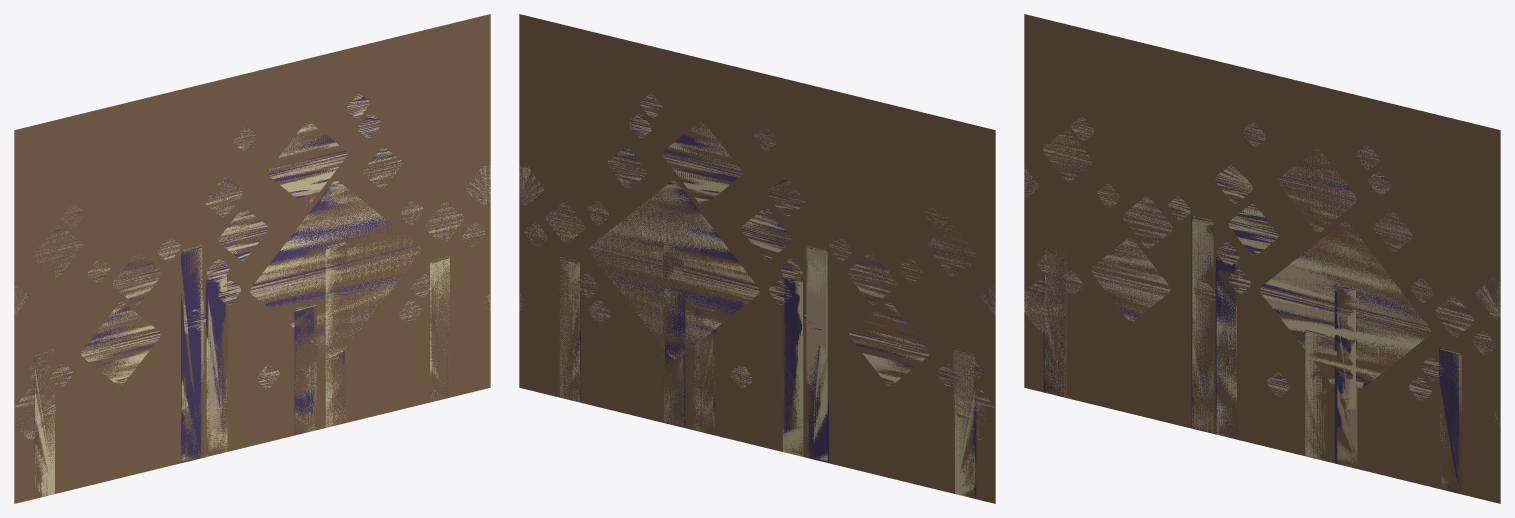
File: SC_Abstract.fbx
3 renders of one model, left to right at view 1: azimuth 30°, elevation 25°; view 2: azimuth 150°, elevation 25°; view 3: azimuth 330°, elevation 25°, orthographic.
Parts seen in each view (by area): view 1: SM_Background_Brown, SM_Blocks_Brown, SM_Blocks_Vanilla, SM_Blocks_Purple, SM_Spires_Purple, SM_Spires_Brown, SM_Blocks_Tan, SM_Spires_Vanilla, SM_Spires_Tan; view 2: SM_Background_Brown, SM_Blocks_Brown, SM_Blocks_Vanilla, SM_Blocks_Purple, SM_Spires_Vanilla, SM_Blocks_Tan, SM_Spires_Brown, SM_Spires_Purple, SM_Spires_Tan; view 3: SM_Background_Brown, SM_Blocks_Brown, SM_Blocks_Vanilla, SM_Spires_Brown, SM_Blocks_Tan, SM_Blocks_Purple, SM_Spires_Purple, SM_Spires_Vanilla, SM_Spires_Tan.
Part boxes in pixels (left/top/right/bottom): SM_Background_Brown: left=14, top=14, right=490, bottom=503; SM_Blocks_Brown: left=15, top=94, right=490, bottom=438; SM_Blocks_Vanilla: left=15, top=94, right=490, bottom=439; SM_Blocks_Purple: left=14, top=94, right=490, bottom=437; SM_Spires_Purple: left=33, top=243, right=448, bottom=494; SM_Spires_Brown: left=36, top=243, right=451, bottom=496; SM_Blocks_Tan: left=15, top=95, right=490, bottom=438; SM_Spires_Vanilla: left=35, top=242, right=449, bottom=496; SM_Spires_Tan: left=36, top=242, right=450, bottom=481; SM_Background_Brown: left=519, top=14, right=995, bottom=503; SM_Blocks_Brown: left=519, top=94, right=995, bottom=439; SM_Blocks_Vanilla: left=519, top=94, right=995, bottom=439; SM_Blocks_Purple: left=519, top=94, right=994, bottom=439; SM_Spires_Vanilla: left=560, top=243, right=974, bottom=496; SM_Blocks_Tan: left=519, top=94, right=995, bottom=438; SM_Spires_Brown: left=558, top=242, right=973, bottom=497; SM_Spires_Purple: left=561, top=244, right=976, bottom=498; SM_Spires_Tan: left=558, top=242, right=973, bottom=497; SM_Background_Brown: left=1024, top=14, right=1500, bottom=503; SM_Blocks_Brown: left=1024, top=117, right=1500, bottom=423; SM_Blocks_Vanilla: left=1024, top=117, right=1500, bottom=425; SM_Spires_Brown: left=1046, top=216, right=1461, bottom=494; SM_Blocks_Tan: left=1024, top=120, right=1500, bottom=413; SM_Blocks_Purple: left=1024, top=116, right=1499, bottom=399; SM_Spires_Purple: left=1043, top=215, right=1458, bottom=493; SM_Spires_Vanilla: left=1045, top=216, right=1459, bottom=460; SM_Spires_Tan: left=1046, top=216, right=1461, bottom=487.
Bounding box in the file's own units: 18.06 × 13.54 × 5.92e-07.
